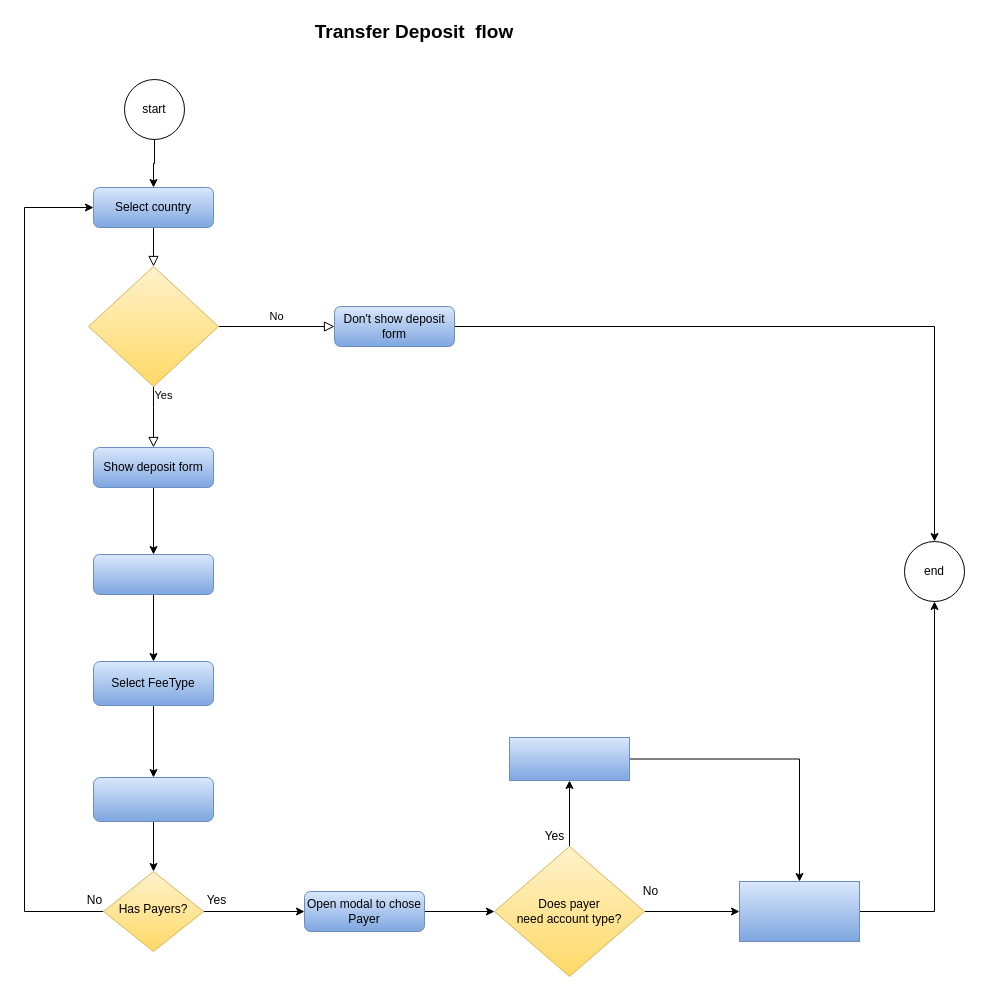
This 982x994 diagram has some shape labels left out. Here are the shapes that lost their labels. From the top down, the centre of each, then its label:
(x=153, y=326): Has transfers deposit ?
(x=153, y=574): Select City
(x=569, y=758): Select account type
(x=153, y=799): Insert amount
(x=799, y=911): Insert account number
